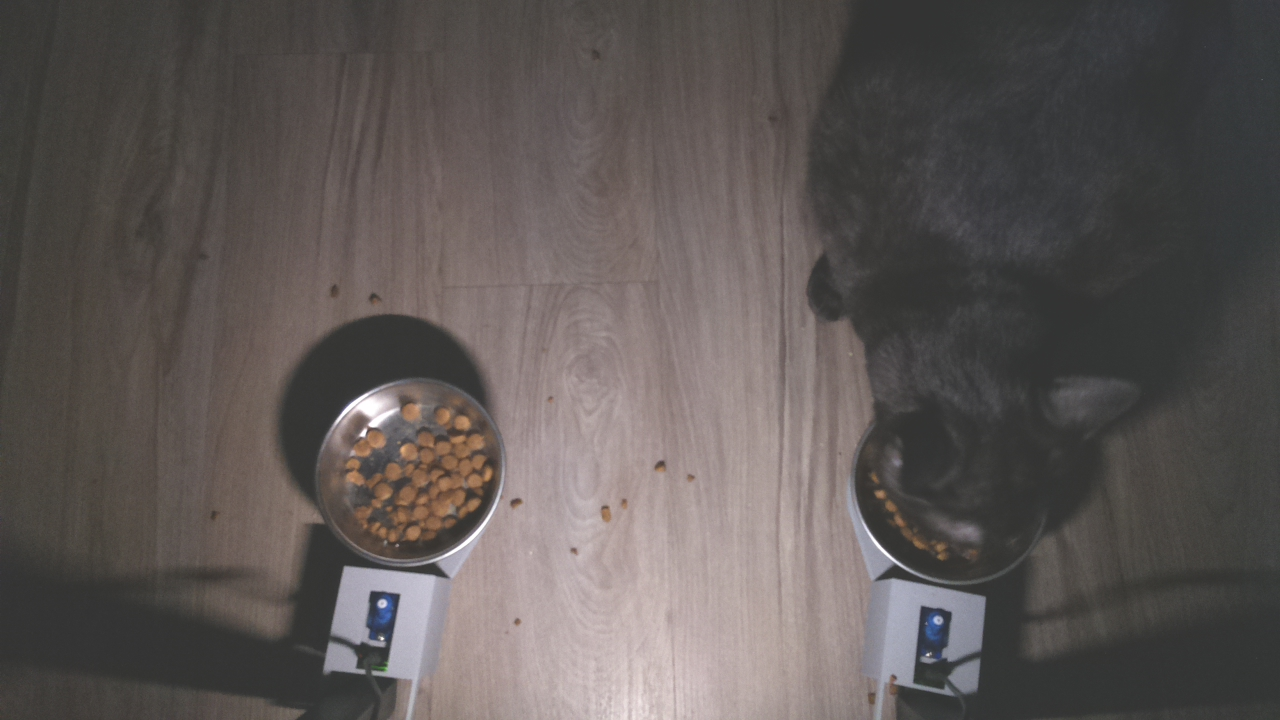open_bowl: (308, 364, 508, 565)
saki_eating: (830, 332, 1156, 590)
